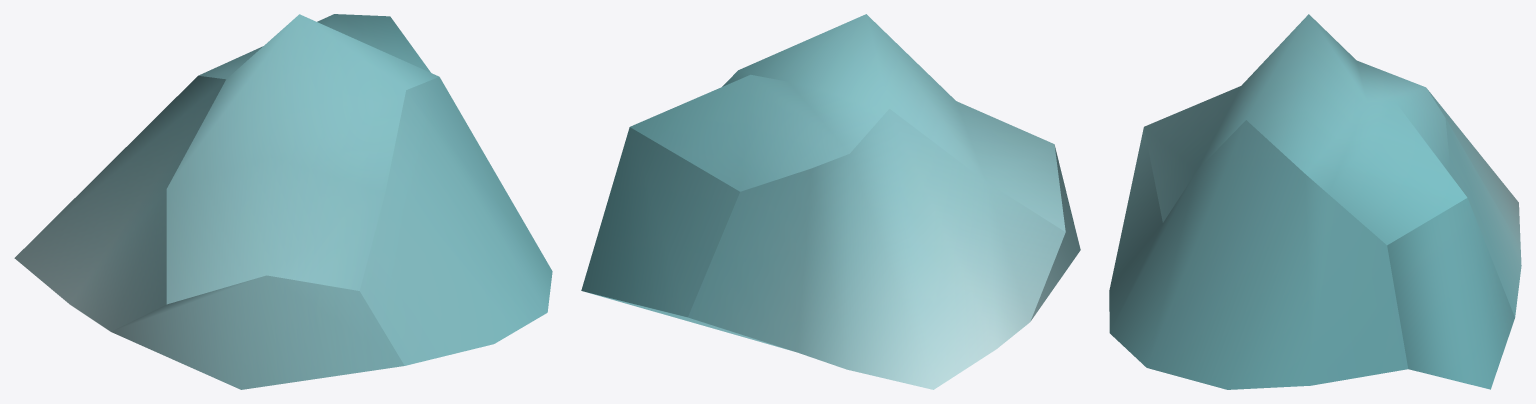
File: Ice_V7_paint.fbx
The picture shows the model from 3 angles, left to right: view 1: azimuth 30°, elevation 25°; view 2: azimuth 150°, elevation 25°; view 3: azimuth 270°, elevation 25°; orthographic projection. The views are drawn at different scales.
Visible parts, largest first — view 1: V7; view 2: V7; view 3: V7.
Part boxes in pixels (x1,y1,x2,y2): V7: (14, 14, 552, 389); V7: (581, 14, 1080, 389); V7: (1109, 14, 1521, 389).
Size of the model in its own units: 1.85 by 1.23 by 1.68.
